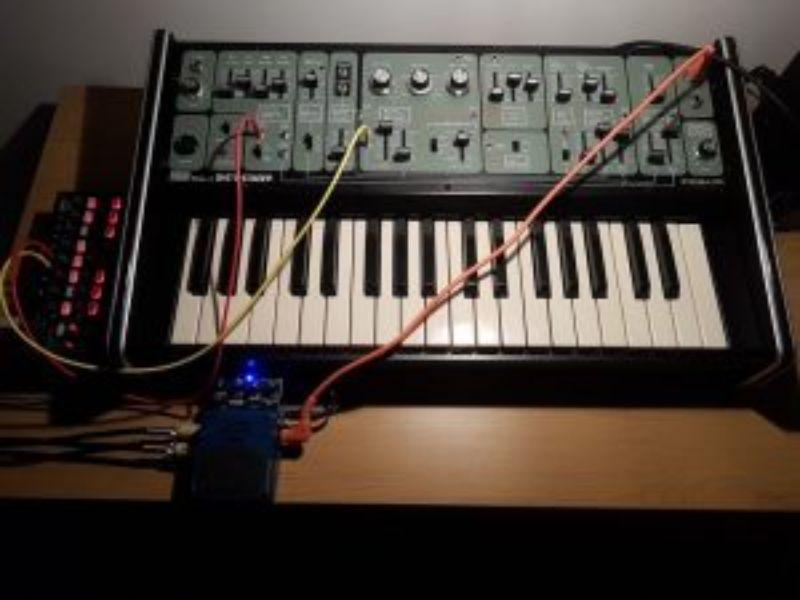synthesizer: (123, 29, 771, 393)
